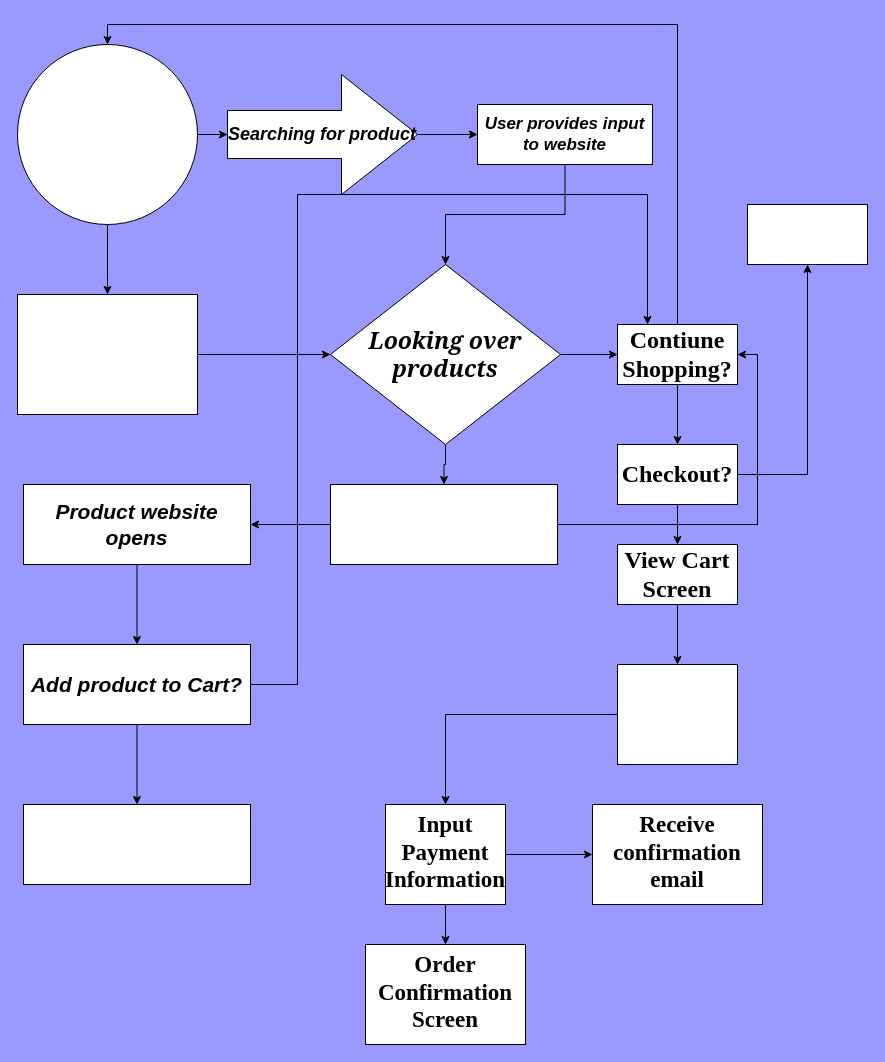
Some shapes in this 885 by 1062 pixel diagram are drawn without their labels. Each missing label, with the centre of its shape:
Explore products on home page: (107,354)
Receive "Added to Cart" confirmation: (136,844)
User Enters Website: (107,134)
User leaves website: (807,234)
View Payment Screen: (677,714)
View Specific Products: (444,524)
